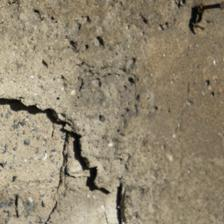Crack: (4, 96, 130, 222)
